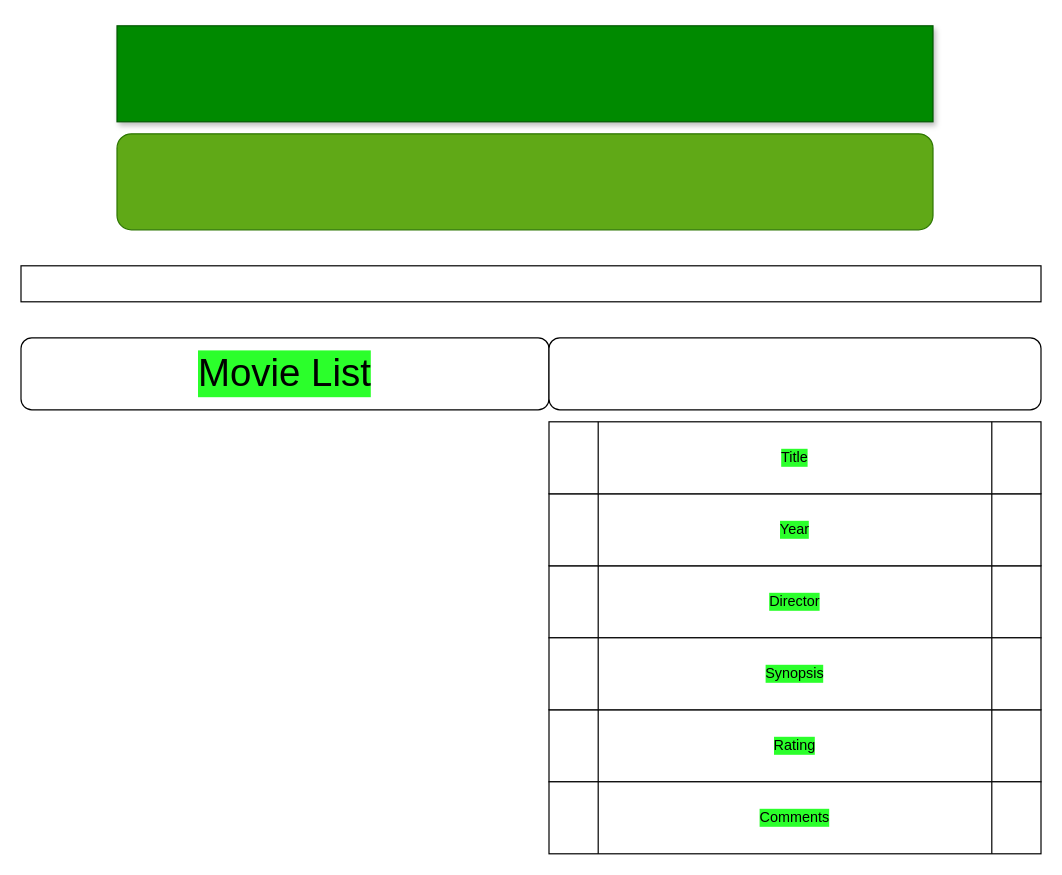
The diagram is 1062 pixels wide and 875 high, and some of its shapes have lost their labels. Here are the shapes that lost their labels. From the top down, the centre of each, then its label:
At (525,75): "Movie App (Root)".
At (524,181): "Header".
At (530,283): "Components".
At (794,373): "Choose a Movie".
